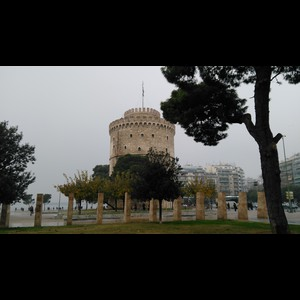White Tower: (105, 76, 181, 178)
